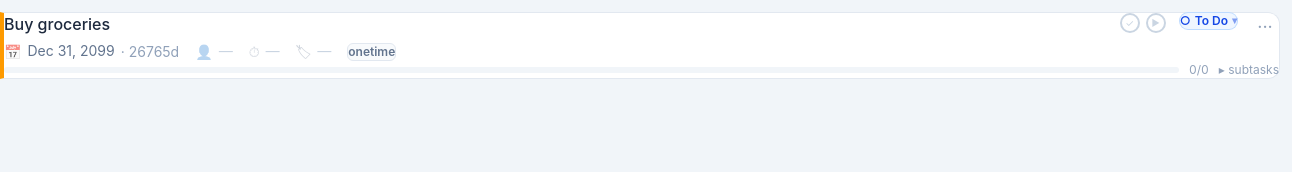
Test: TaskCard — inline title editing › double-clicking the title enters edit mode (shows input)
This screenshot has width=1292, height=172.
Double-click the text "Buy groceries" at (57, 24), box [4,13,110,35]
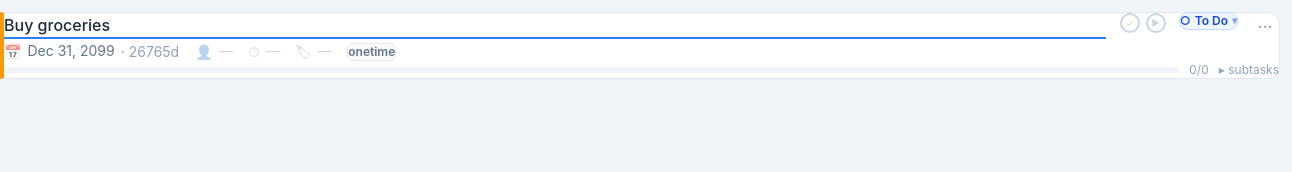
Expected: the field showing "Buy groceries" is shown, [4,13,1106,39]
